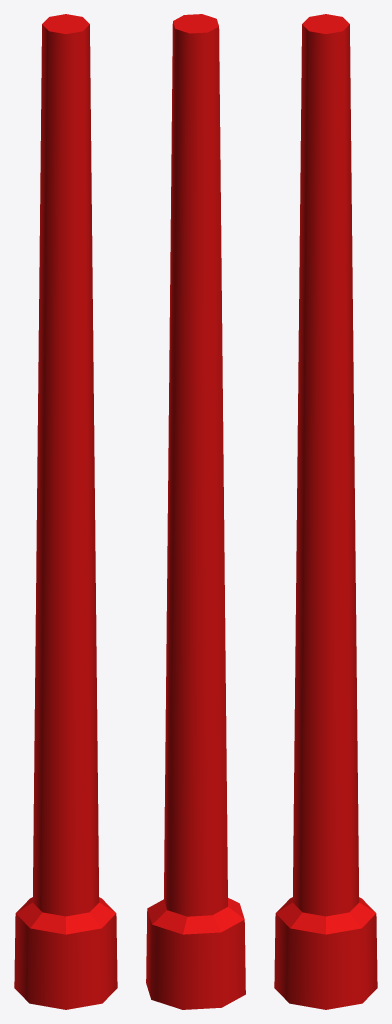
The model's file is BuildingGasStationAdvertisingBase.fbx.
The picture shows the model from 3 angles, left to right: view 1: azimuth 90°, elevation 25°; view 2: azimuth 210°, elevation 25°; view 3: azimuth 270°, elevation 25°; orthographic projection.
Visible parts, largest first — view 1: BuildingGasStationAdvertisingBase; view 2: BuildingGasStationAdvertisingBase; view 3: BuildingGasStationAdvertisingBase.
Part boxes in pixels (left/top/right/bottom): BuildingGasStationAdvertisingBase: left=14, top=14, right=117, bottom=1009; BuildingGasStationAdvertisingBase: left=146, top=14, right=245, bottom=1009; BuildingGasStationAdvertisingBase: left=274, top=14, right=377, bottom=1009.
Size of the model in its own units: 0.9641 by 9.94 by 0.9641.
